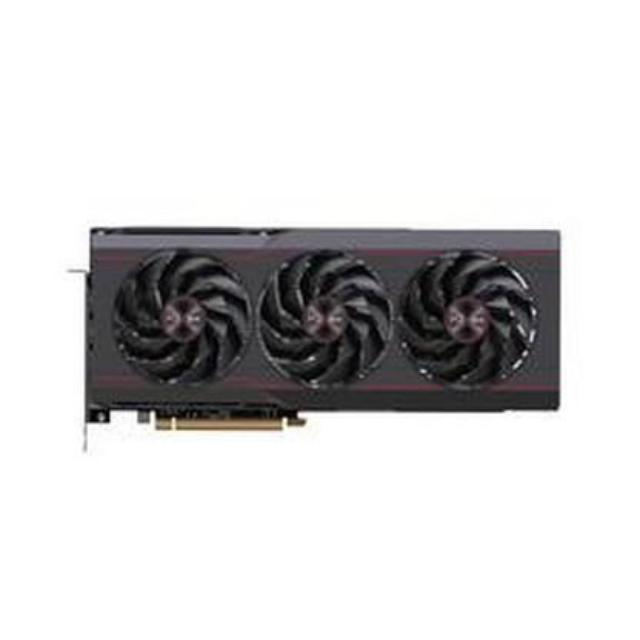GPU: (67, 220, 564, 440)
